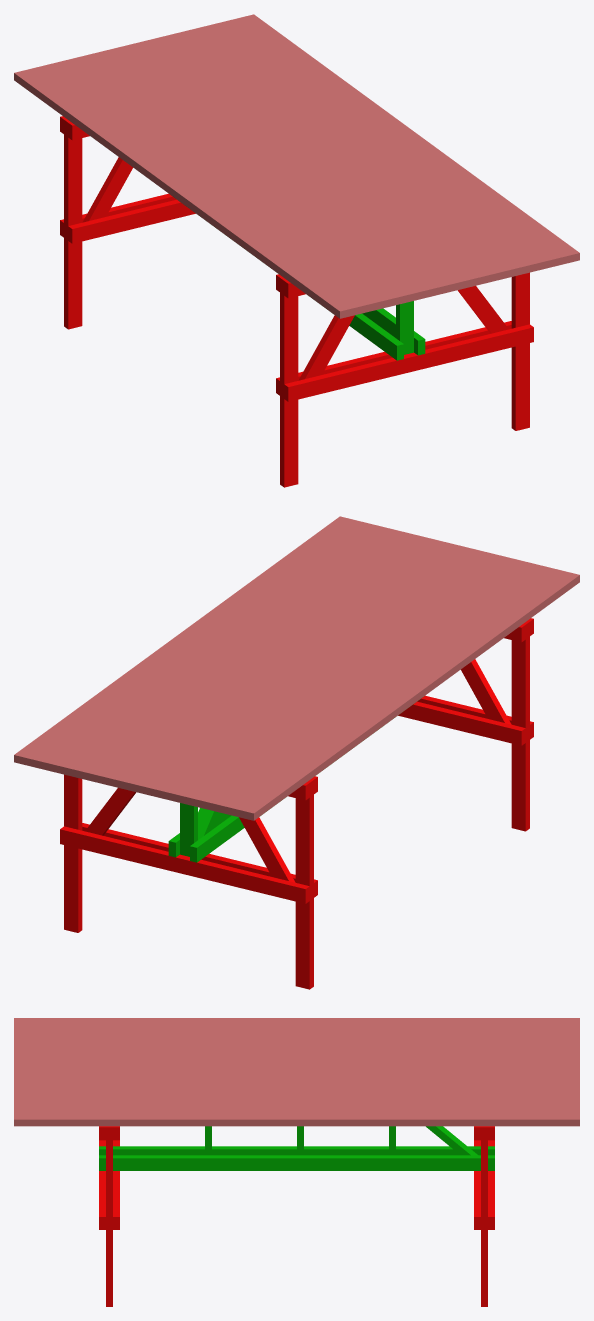
The model's file is result.glb.
The picture shows the model from 3 angles, top to bottom: view 1: azimuth 30°, elevation 25°; view 2: azimuth 150°, elevation 25°; view 3: azimuth 270°, elevation 25°; orthographic projection. The views are drawn at different scales.
Parts seen in each view (by area): view 1: 32f13c15-4b16-4c68-addf-00bddd51c79c__Box, 32d19219-90ce-4134-8327-cd58f89e7012__undefined, 074484a9-067f-4f93-8225-88e714489cac__undefined, e2e72682-1755-4d9f-a28a-1be4324a6e23__undefined, 5481af0e-56c8-4476-9123-122deb0805a9__undefined, aa010a07-8c68-41c5-ab45-1451e3714bf2__undefined, 2046629c-f030-4825-9212-6eb6bbf779e4__undefined, 87377720-b08b-406c-b939-18a0acb39bc4__undefined, 26be4b55-3c42-4665-a618-a65884580308__undefined, a40eca08-e70f-4488-a26e-52dddf4ec282__undefined, 2c0ff5f9-0437-42e8-a519-44d864713c02__undefined, 35803740-323f-4873-83ab-e5579002350b__undefined (+18 smaller); view 2: 32f13c15-4b16-4c68-addf-00bddd51c79c__Box, 32d19219-90ce-4134-8327-cd58f89e7012__undefined, 074484a9-067f-4f93-8225-88e714489cac__undefined, e2e72682-1755-4d9f-a28a-1be4324a6e23__undefined, 5481af0e-56c8-4476-9123-122deb0805a9__undefined, aa010a07-8c68-41c5-ab45-1451e3714bf2__undefined, 2046629c-f030-4825-9212-6eb6bbf779e4__undefined, 87377720-b08b-406c-b939-18a0acb39bc4__undefined, 26be4b55-3c42-4665-a618-a65884580308__undefined, a40eca08-e70f-4488-a26e-52dddf4ec282__undefined, 2c0ff5f9-0437-42e8-a519-44d864713c02__undefined, 35803740-323f-4873-83ab-e5579002350b__undefined (+17 smaller); view 3: c9d71751-11a4-4a2e-abef-1d0eb9ce4cf1__undefined, 970946e0-f557-4408-ad10-19ccad258482__strutH, e2e72682-1755-4d9f-a28a-1be4324a6e23__undefined, 92411bd3-62fe-4e83-8ecb-6b77cb546c59__undefined, 76659738-65d0-420b-a1fb-95d9dbdb5817__strutH, 32f13c15-4b16-4c68-addf-00bddd51c79c__Box, 87377720-b08b-406c-b939-18a0acb39bc4__undefined, 5481af0e-56c8-4476-9123-122deb0805a9__undefined, 26be4b55-3c42-4665-a618-a65884580308__undefined, 35803740-323f-4873-83ab-e5579002350b__undefined, 32d19219-90ce-4134-8327-cd58f89e7012__undefined, 804de69d-07c7-405a-8d51-c927bd17710f__undefined (+14 smaller).
Part boxes in pixels (box(x1,y1,x2,y2)): 32f13c15-4b16-4c68-addf-00bddd51c79c__Box: box(14, 69, 353, 318); 32d19219-90ce-4134-8327-cd58f89e7012__undefined: box(85, 52, 424, 301); 074484a9-067f-4f93-8225-88e714489cac__undefined: box(170, 31, 509, 280); e2e72682-1755-4d9f-a28a-1be4324a6e23__undefined: box(212, 21, 551, 270); 5481af0e-56c8-4476-9123-122deb0805a9__undefined: box(42, 62, 382, 311); aa010a07-8c68-41c5-ab45-1451e3714bf2__undefined: box(113, 45, 452, 294); 2046629c-f030-4825-9212-6eb6bbf779e4__undefined: box(198, 24, 537, 273); 87377720-b08b-406c-b939-18a0acb39bc4__undefined: box(28, 66, 368, 315); 26be4b55-3c42-4665-a618-a65884580308__undefined: box(56, 59, 396, 308); a40eca08-e70f-4488-a26e-52dddf4ec282__undefined: box(141, 38, 481, 287); 2c0ff5f9-0437-42e8-a519-44d864713c02__undefined: box(183, 28, 523, 277); 35803740-323f-4873-83ab-e5579002350b__undefined: box(71, 55, 410, 304); 32f13c15-4b16-4c68-addf-00bddd51c79c__Box: box(240, 571, 579, 820); 32d19219-90ce-4134-8327-cd58f89e7012__undefined: box(169, 554, 508, 803); 074484a9-067f-4f93-8225-88e714489cac__undefined: box(84, 533, 423, 782); e2e72682-1755-4d9f-a28a-1be4324a6e23__undefined: box(42, 523, 381, 772); 5481af0e-56c8-4476-9123-122deb0805a9__undefined: box(211, 564, 551, 813); aa010a07-8c68-41c5-ab45-1451e3714bf2__undefined: box(141, 547, 480, 796); 2046629c-f030-4825-9212-6eb6bbf779e4__undefined: box(56, 526, 395, 775); 87377720-b08b-406c-b939-18a0acb39bc4__undefined: box(225, 568, 565, 817); 26be4b55-3c42-4665-a618-a65884580308__undefined: box(197, 561, 537, 810); a40eca08-e70f-4488-a26e-52dddf4ec282__undefined: box(112, 540, 452, 789); 2c0ff5f9-0437-42e8-a519-44d864713c02__undefined: box(70, 530, 410, 779); 35803740-323f-4873-83ab-e5579002350b__undefined: box(183, 557, 522, 806); c9d71751-11a4-4a2e-abef-1d0eb9ce4cf1__undefined: box(14, 1113, 579, 1126); 970946e0-f557-4408-ad10-19ccad258482__strutH: box(99, 1155, 494, 1170); e2e72682-1755-4d9f-a28a-1be4324a6e23__undefined: box(14, 1101, 579, 1107); 92411bd3-62fe-4e83-8ecb-6b77cb546c59__undefined: box(14, 1107, 579, 1113); 76659738-65d0-420b-a1fb-95d9dbdb5817__strutH: box(99, 1146, 494, 1155); 32f13c15-4b16-4c68-addf-00bddd51c79c__Box: box(14, 1018, 579, 1023); 87377720-b08b-406c-b939-18a0acb39bc4__undefined: box(14, 1024, 579, 1029); 5481af0e-56c8-4476-9123-122deb0805a9__undefined: box(14, 1030, 579, 1035); 26be4b55-3c42-4665-a618-a65884580308__undefined: box(14, 1036, 579, 1041); 35803740-323f-4873-83ab-e5579002350b__undefined: box(14, 1042, 579, 1047); 32d19219-90ce-4134-8327-cd58f89e7012__undefined: box(14, 1048, 579, 1053); 804de69d-07c7-405a-8d51-c927bd17710f__undefined: box(14, 1054, 579, 1059).
Size of the model in its own units: 870 by 725 by 2000.
